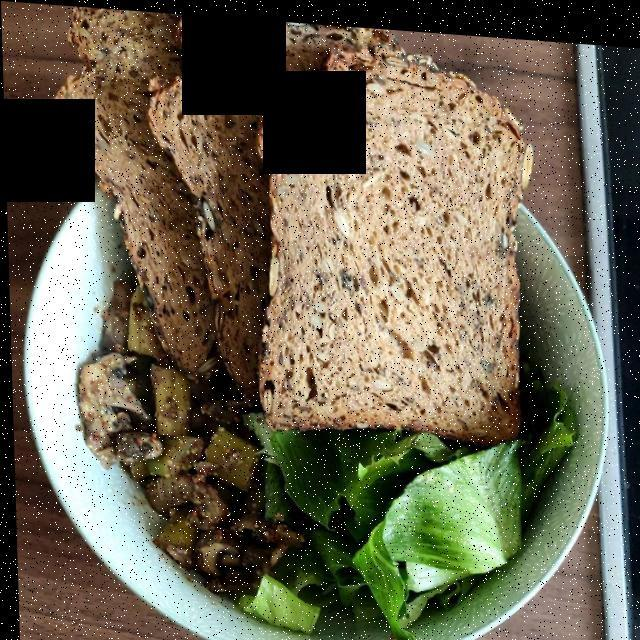bread: (66, 18, 540, 431)
salad: (245, 377, 577, 628)
